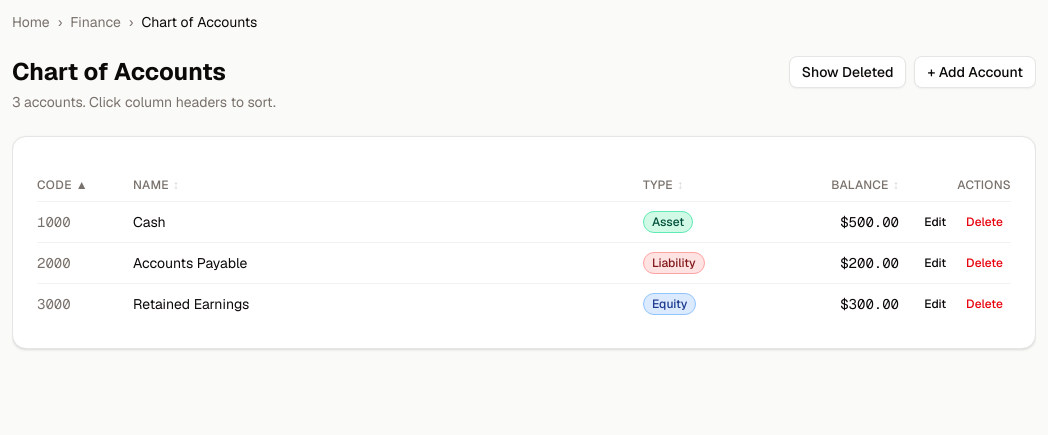
it: ChartOfAccountsPage › shows validation error for non-positive account code
The image size is (1048, 435).
Expected: the link "Cash" is shown, [133,213,166,231]
Step 1. Click the button "Edit" in the row of "1000" → coordinates (935, 222), box [916,210,954,234]
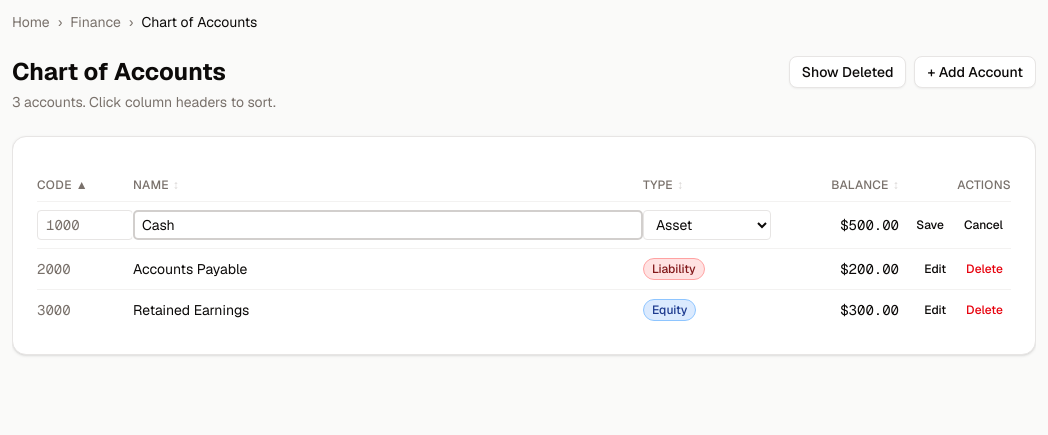
Step 2. Replace the text in the number field showing "1000" with "0" → coordinates (85, 225), box [37,210,133,240]
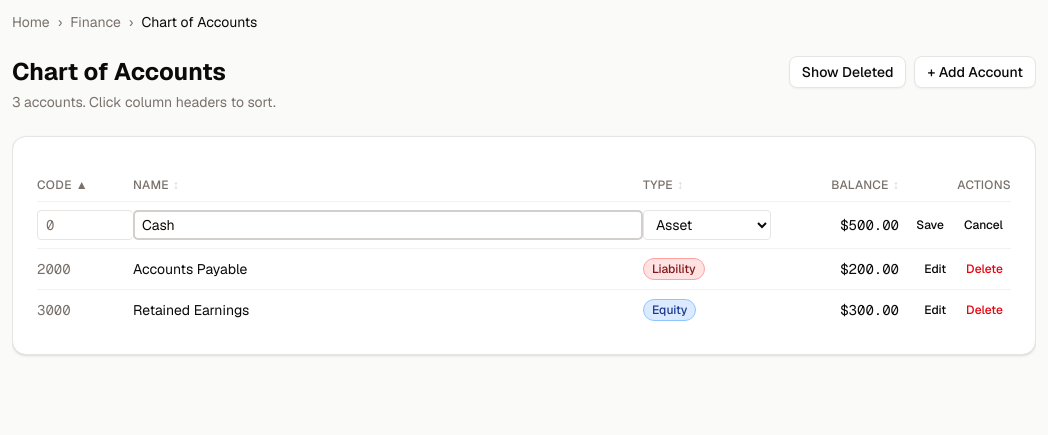
Step 3. Click the button "Save" → coordinates (930, 225), box [908,213,952,237]
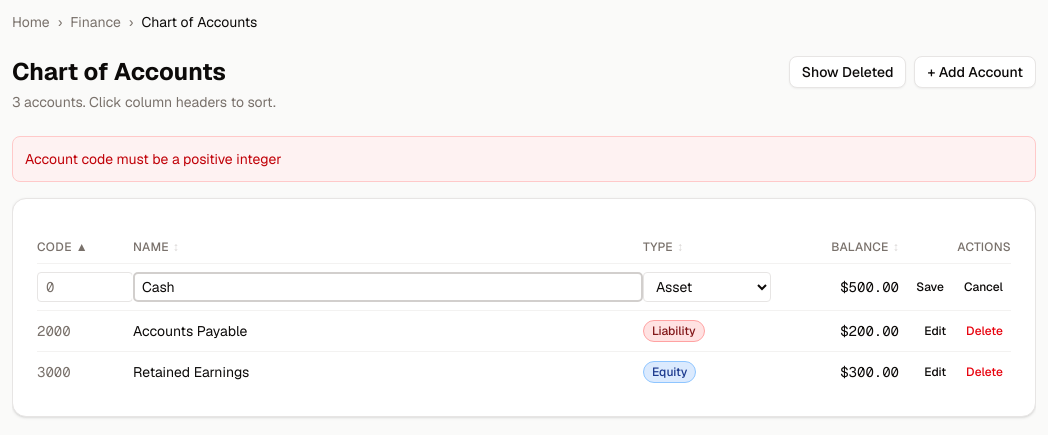
Expected: the text "Account code must be a positive integer" is shown, [12,136,1036,182]
